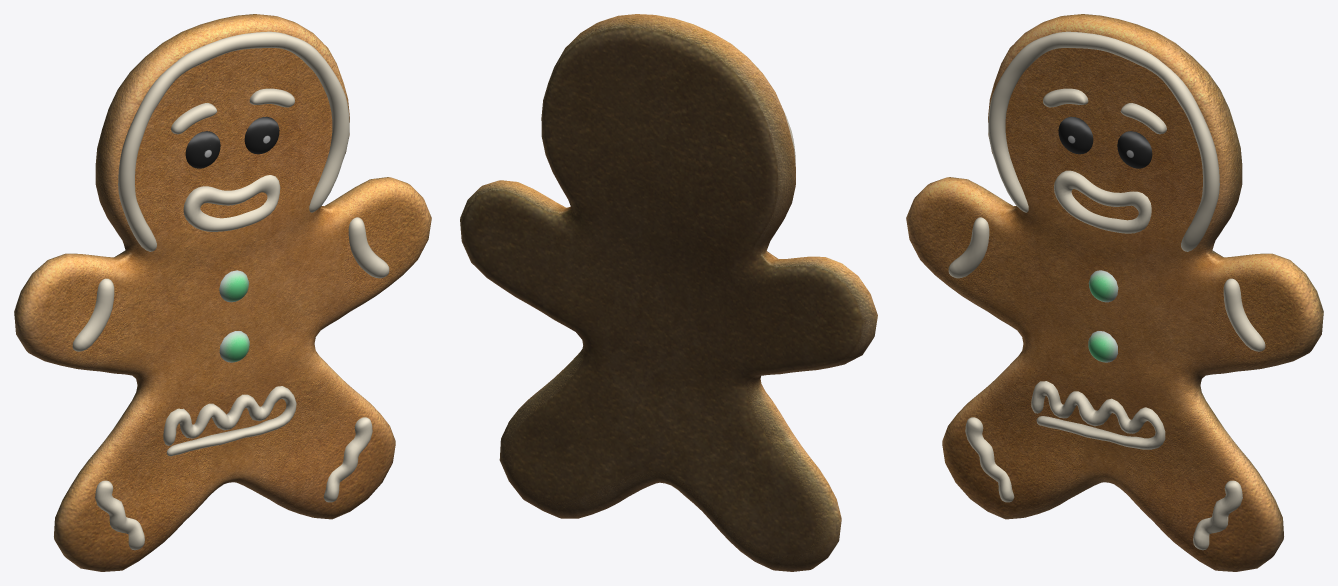
File: gingerbread_man.glb
3 renders of one model, left to right at view 1: azimuth 30°, elevation 25°; view 2: azimuth 150°, elevation 25°; view 3: azimuth 330°, elevation 25°, orthographic.
Visible parts, largest first — view 1: ginger_body, elements; view 2: ginger_body; view 3: ginger_body, elements.
Boxes of the visible parts, x1,y1,x2,y2 form: ginger_body: (14, 14, 431, 571); elements: (72, 31, 389, 550); ginger_body: (460, 14, 877, 571); ginger_body: (906, 14, 1323, 571); elements: (948, 31, 1265, 550).
Bounding box in the file's own units: 114 × 137 × 13.07.
Materials: 2 (2 with a texture image).
